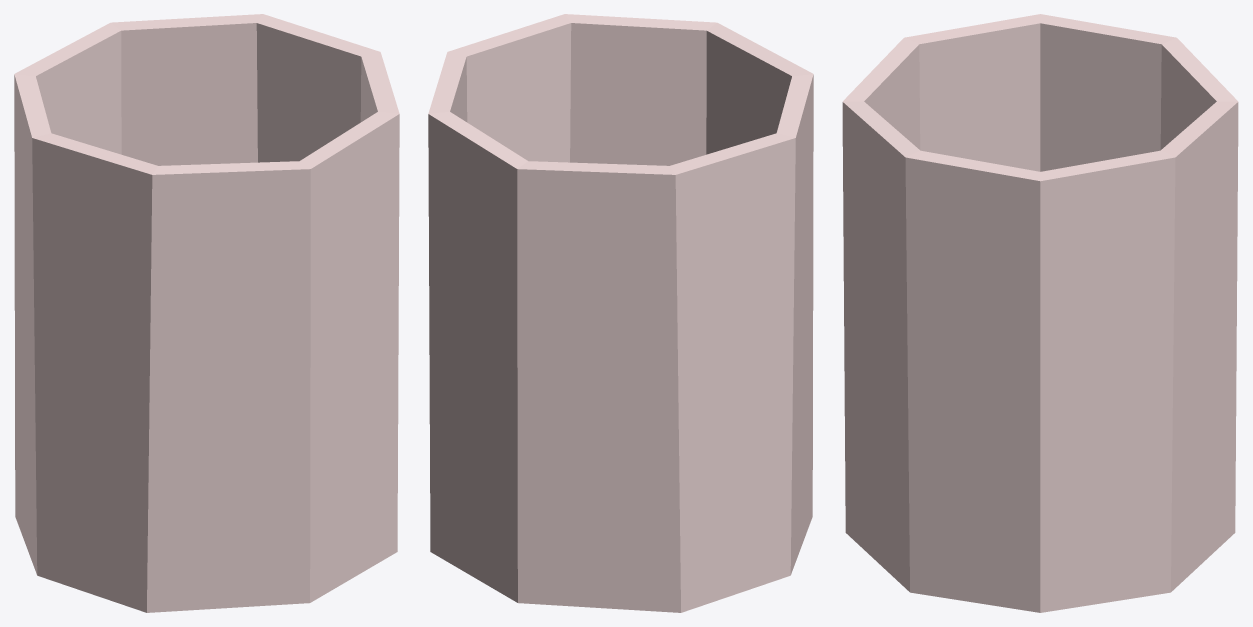
File: Bathroom_Cup.fbx
3 views of the same model, side by side, from view 1: azimuth 30°, elevation 25°; view 2: azimuth 150°, elevation 25°; view 3: azimuth 270°, elevation 25° (orthographic).
Visible parts, largest first — view 1: Bathroom_Cup; view 2: Bathroom_Cup; view 3: Bathroom_Cup.
Part boxes in pixels (box(x1,y1,x2,y2)): Bathroom_Cup: box(14, 14, 399, 612); Bathroom_Cup: box(428, 14, 813, 612); Bathroom_Cup: box(842, 14, 1238, 612).
Bounding box in the file's own units: 16.4 × 20.15 × 16.32.
